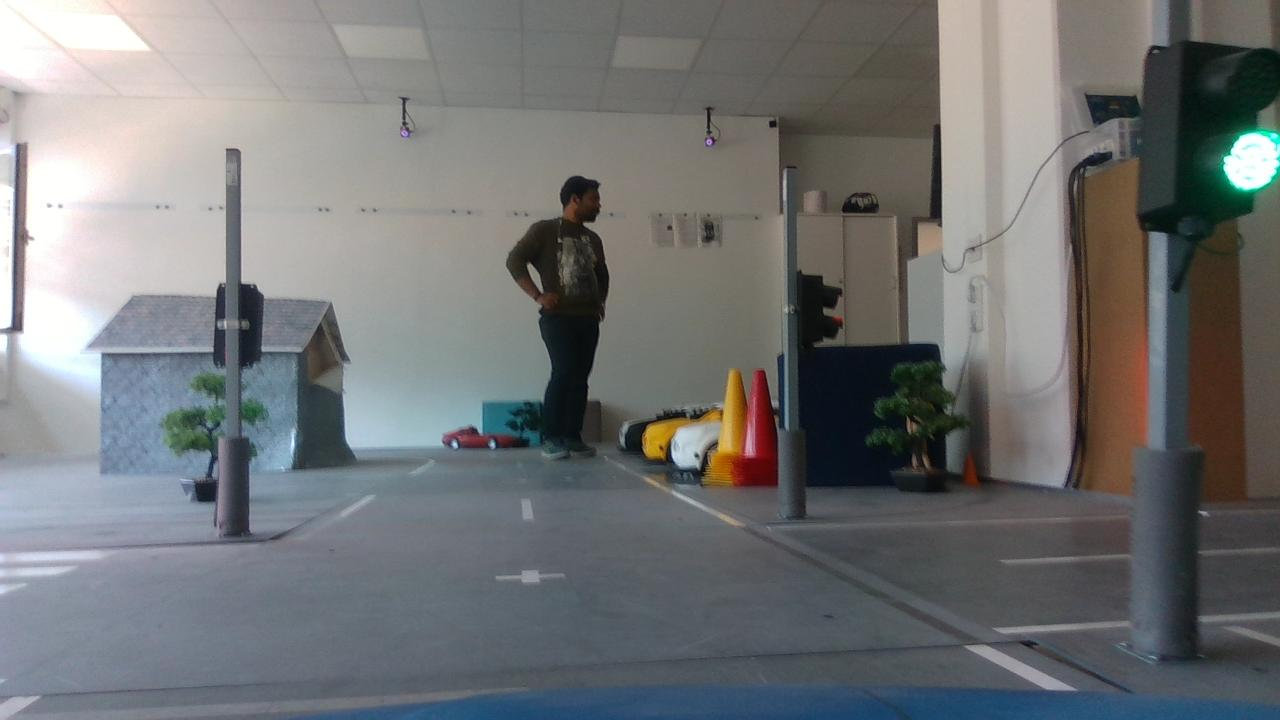traffic_light_green: (1115, 23, 1280, 269)
